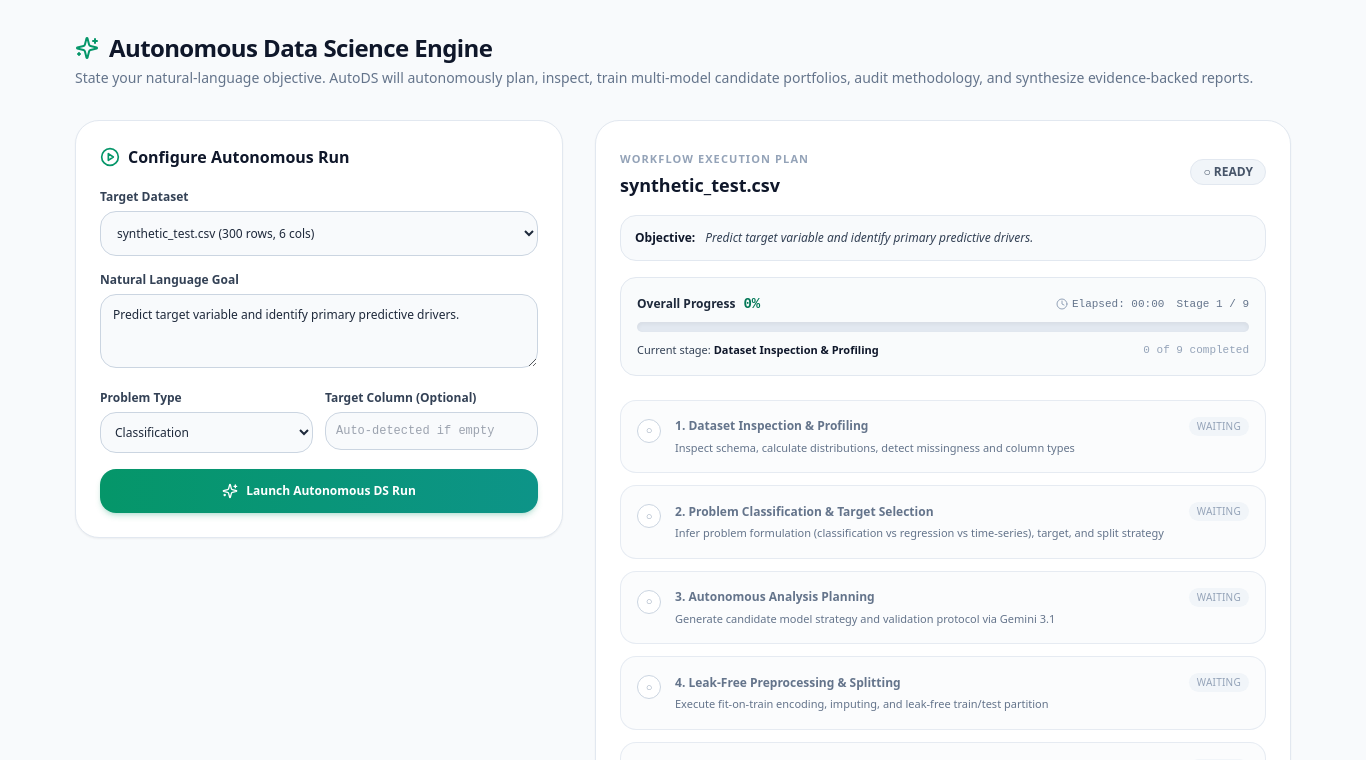
Test: AnalysisPage Autonomous 9-Stage Real-Time Progress Experience › 8 & 9. Failed state: stops polling immediately and displays backend error message
Select "synthetic_test.csv (300 rows, 6 cols)" in the dropdown below "Target Dataset" at (319, 234), box [100,211,538,256]
// Launch run
Click the button "Launch Autonomous DS Run" at (319, 491), box [100,469,538,513]
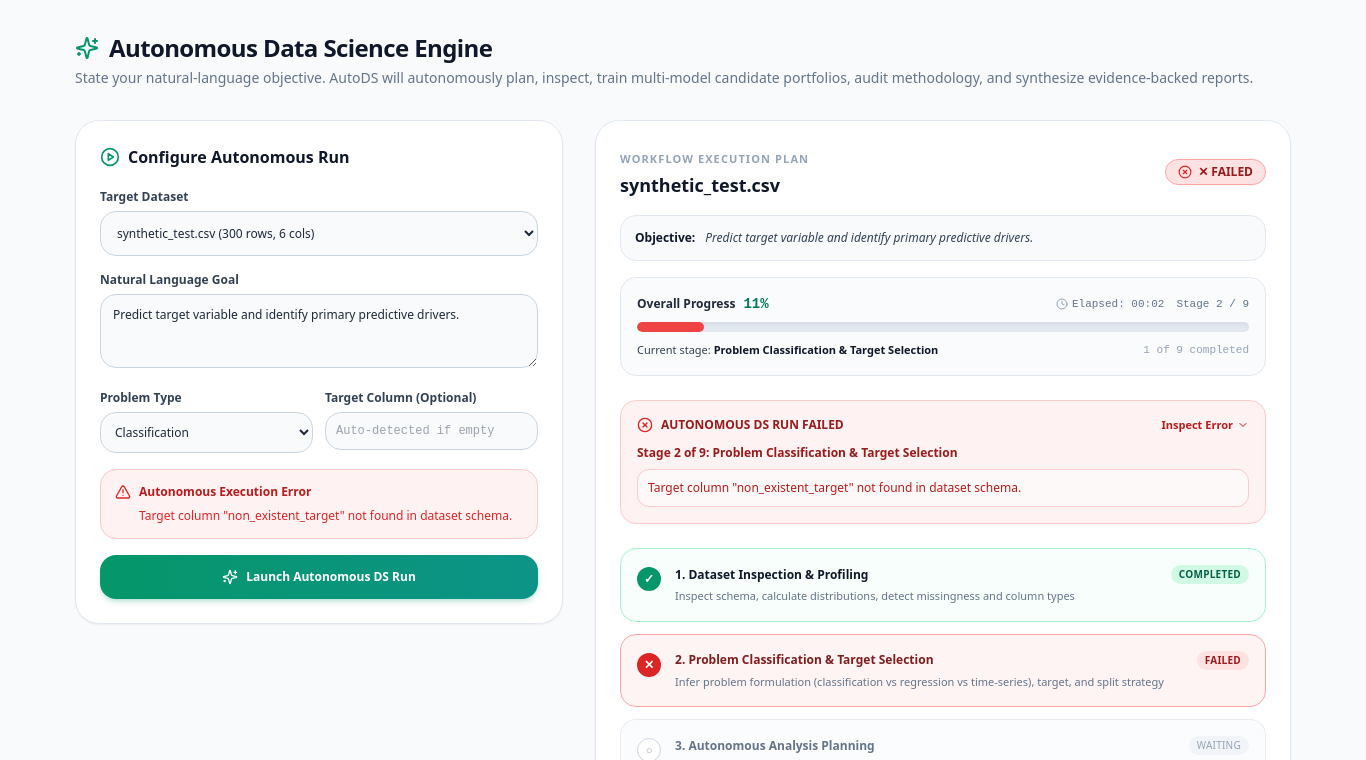
Expected: the text "✕ FAILED" is shown, [1165,159,1266,185]
Expected: the text "Target column \"non_existent_target\" not found in dataset schema." below "Autonomous Execution Error" is shown, [139,507,512,524]
